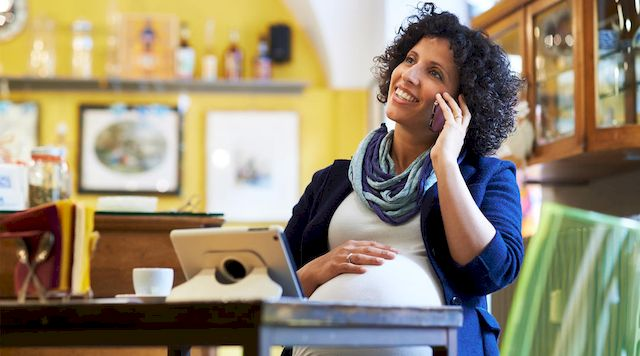phone: (430, 90, 470, 132)
talk: (386, 50, 471, 160)
